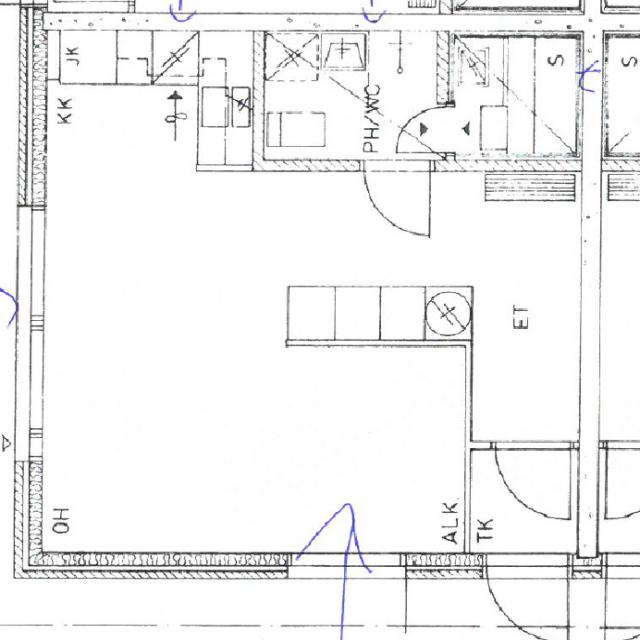door: (487, 553, 568, 640), (496, 441, 570, 522), (364, 160, 430, 236), (400, 106, 454, 152)
